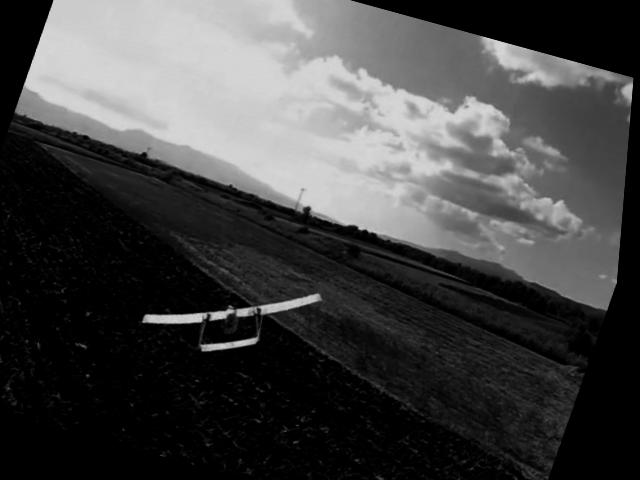hedef: (135, 248, 337, 384)
